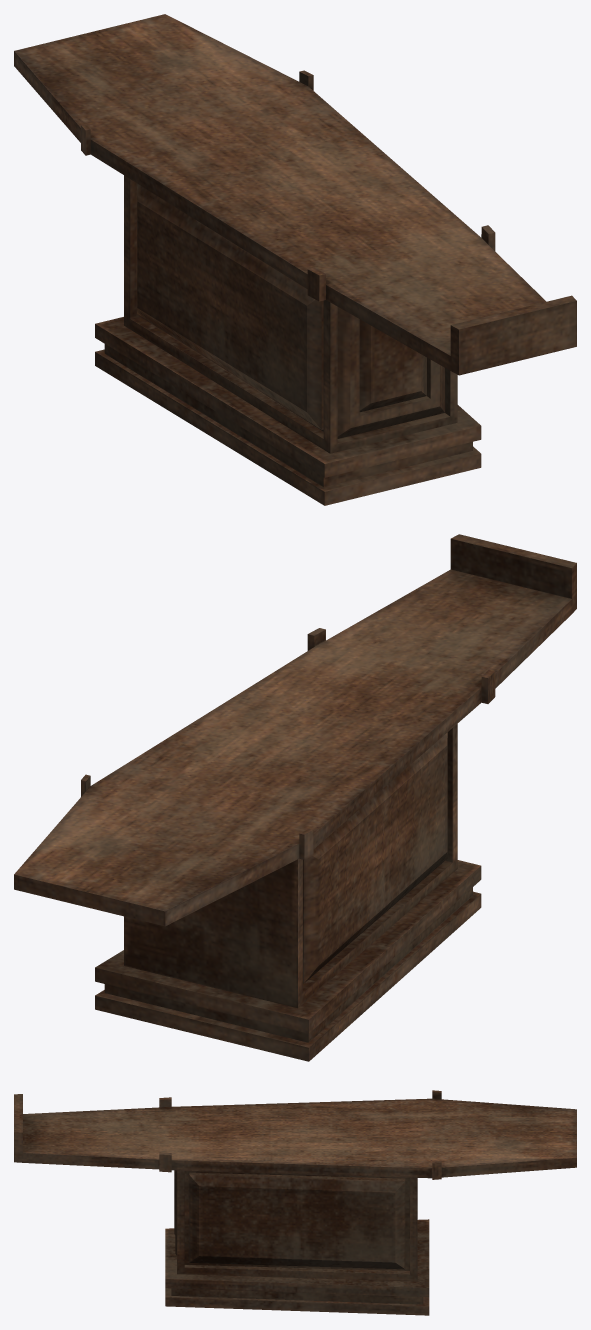
Rendered from Suporte_Caixao_NEC_CENA.fbx.
3 renders of one model, top to bottom at view 1: azimuth 30°, elevation 25°; view 2: azimuth 150°, elevation 25°; view 3: azimuth 270°, elevation 25°, orthographic. The views are drawn at different scales.
Parts seen in each view (by area): view 1: SuporteCaixao; view 2: SuporteCaixao; view 3: SuporteCaixao.
Part boxes in pixels (left/top/right/bottom): SuporteCaixao: left=14, top=14, right=576, bottom=505; SuporteCaixao: left=14, top=534, right=576, bottom=1061; SuporteCaixao: left=14, top=1090, right=576, bottom=1315.
Bounding box in the file's own units: 63.58 × 68.18 × 207.
Materials: 1 (1 with a texture image).
